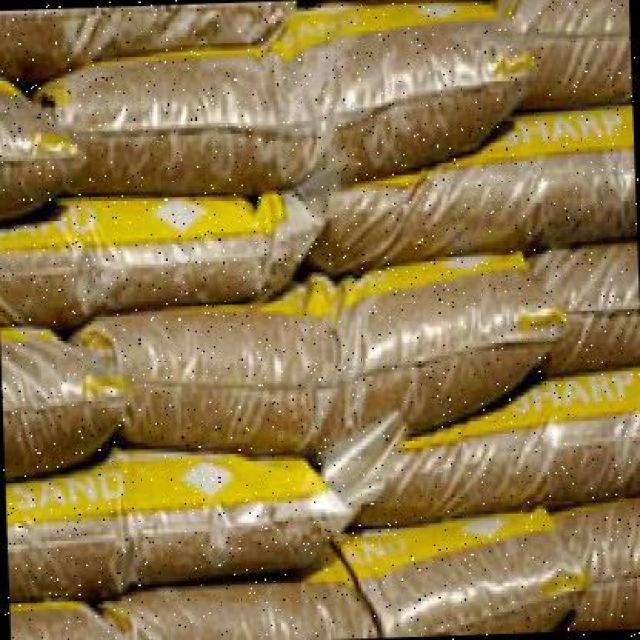gunny_bag: (77, 258, 570, 453), (45, 5, 533, 196), (99, 507, 583, 640), (294, 102, 637, 270), (321, 368, 640, 533), (5, 452, 357, 596), (0, 192, 328, 315), (0, 1, 281, 62), (529, 240, 640, 382), (549, 499, 640, 632), (0, 76, 63, 200), (10, 599, 127, 640)
